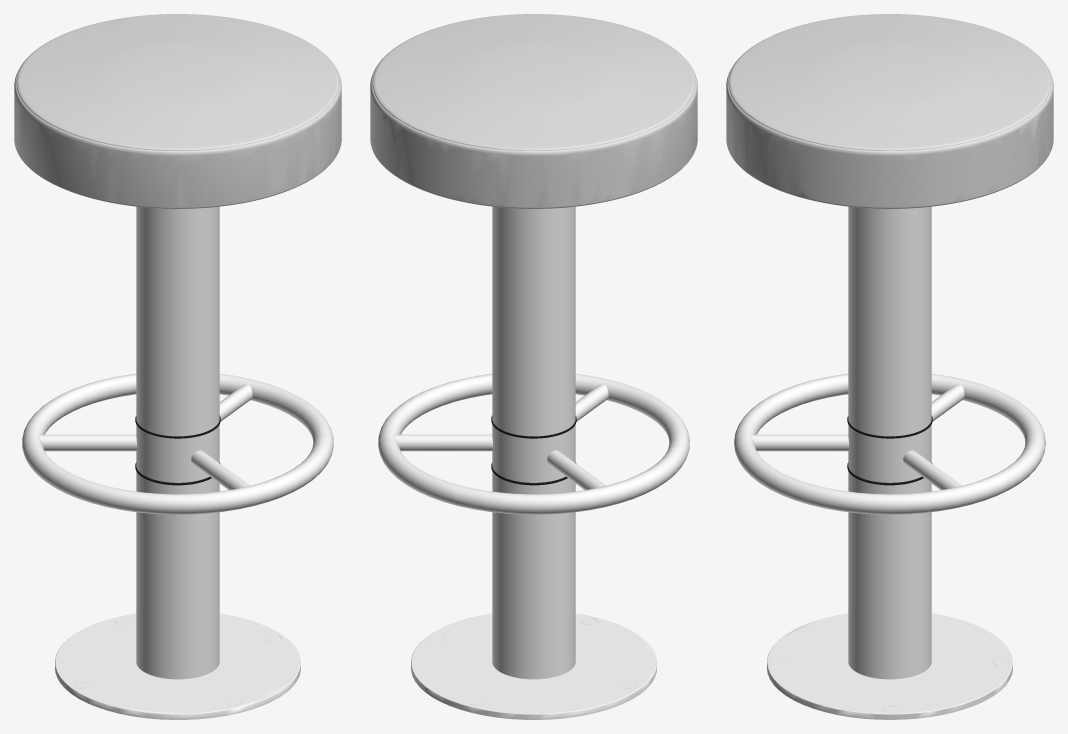
Rendered from c114-clun-280.glb.
3 renders of one model, left to right at view 1: azimuth 30°, elevation 25°; view 2: azimuth 150°, elevation 25°; view 3: azimuth 270°, elevation 25°, orthographic.
Parts seen in each view (by area): view 1: c114-base-piastra, c114-seduta-acciaio, c114-tubo-boccola-alta; view 2: c114-base-piastra, c114-seduta-acciaio, c114-tubo-boccola-alta; view 3: c114-base-piastra, c114-seduta-acciaio, c114-tubo-boccola-alta.
Part boxes in pixels (<box>): c114-base-piastra: <box>22,206,333,719</box>; c114-seduta-acciaio: <box>14,14,341,208</box>; c114-tubo-boccola-alta: <box>135,415,220,485</box>; c114-base-piastra: <box>378,206,689,719</box>; c114-seduta-acciaio: <box>370,14,697,208</box>; c114-tubo-boccola-alta: <box>491,415,576,485</box>; c114-base-piastra: <box>734,206,1045,719</box>; c114-seduta-acciaio: <box>726,14,1053,208</box>; c114-tubo-boccola-alta: <box>847,416,932,485</box>.
Size of the model in its own units: 0.3991 by 0.8009 by 0.3991.
4 materials, 1 textured.
